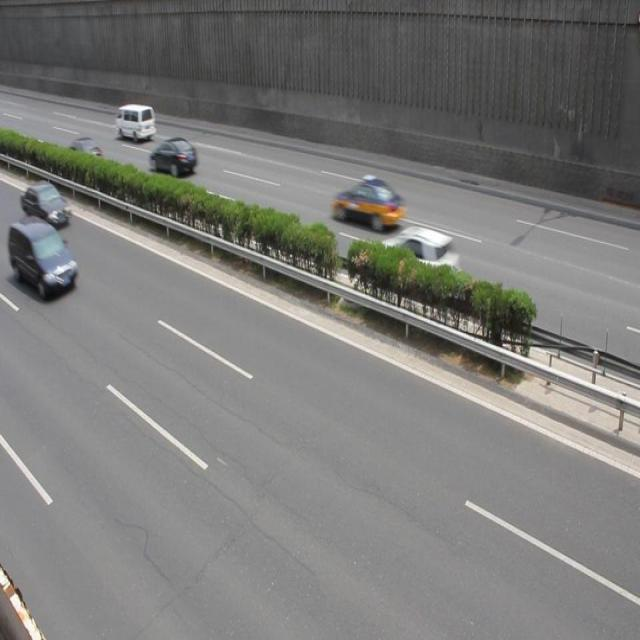car: (373, 223, 461, 297), (331, 176, 406, 233), (20, 181, 72, 231), (150, 137, 197, 176), (63, 136, 104, 172)
truck: (9, 214, 78, 299), (115, 106, 157, 141)
